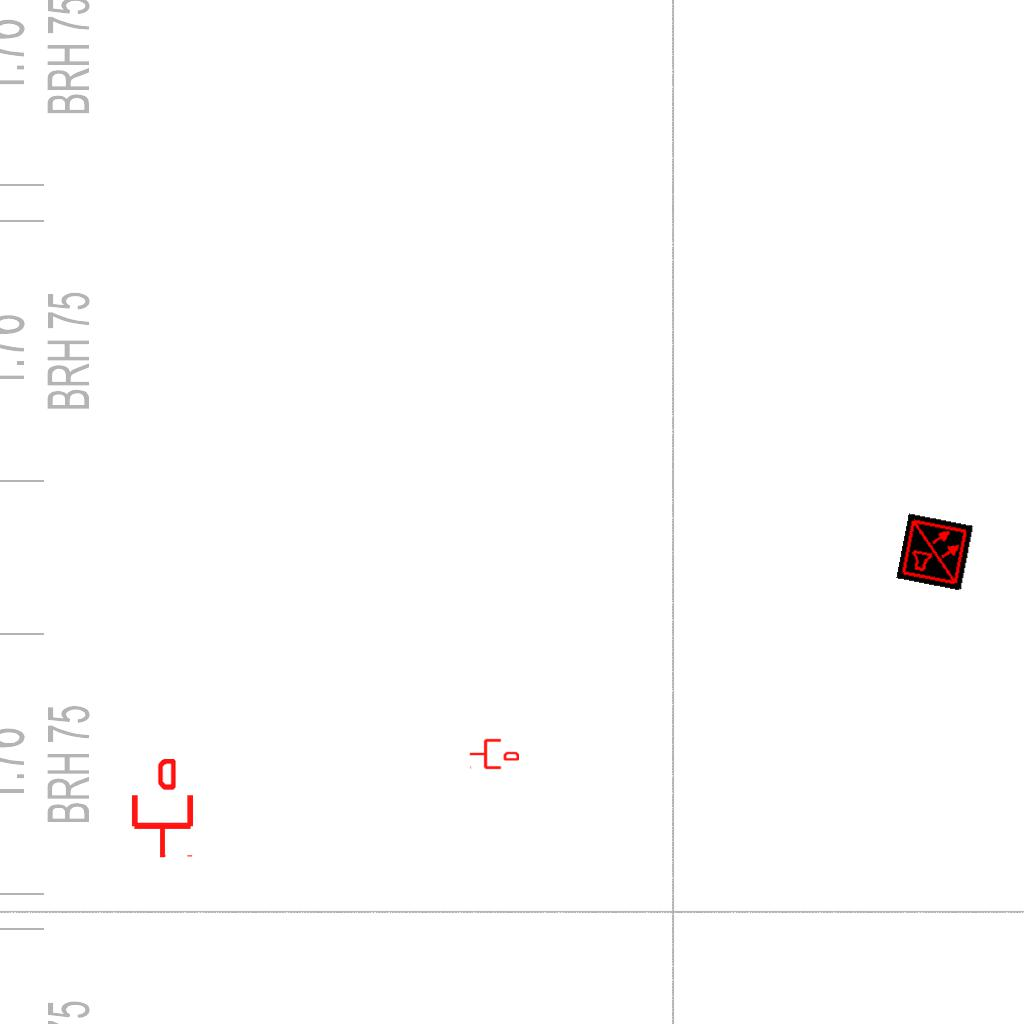Datenanschluss_einfach: (128, 759, 197, 859), (469, 737, 519, 771)
OKW_Multisensormelder_(Kombination_optischer_Rauch-Kahlenmonoxid_Waerme-Melder): (896, 513, 974, 591)
